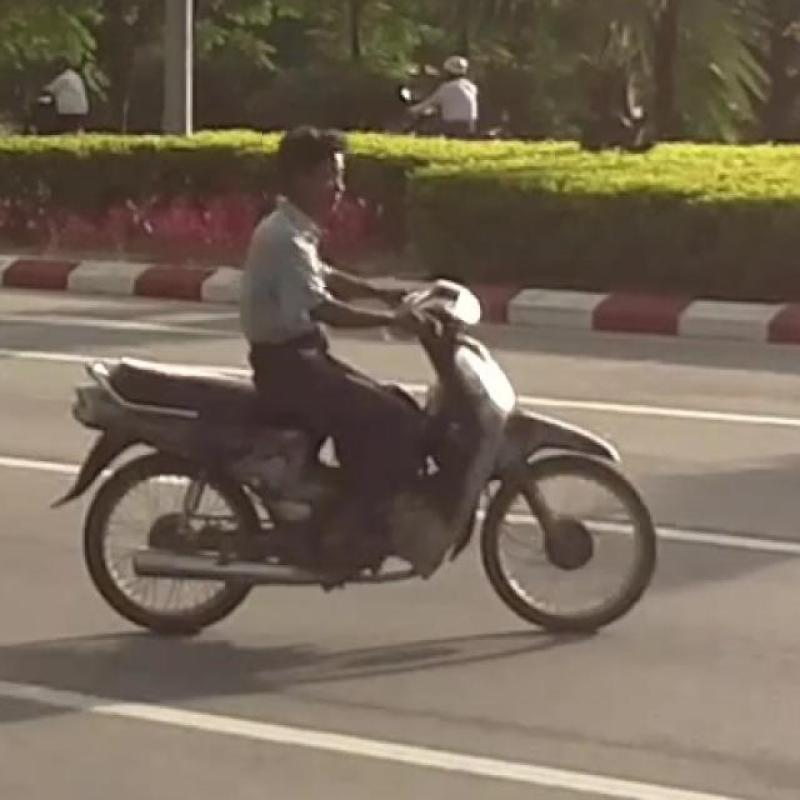nohelmet: (264, 112, 394, 287)
